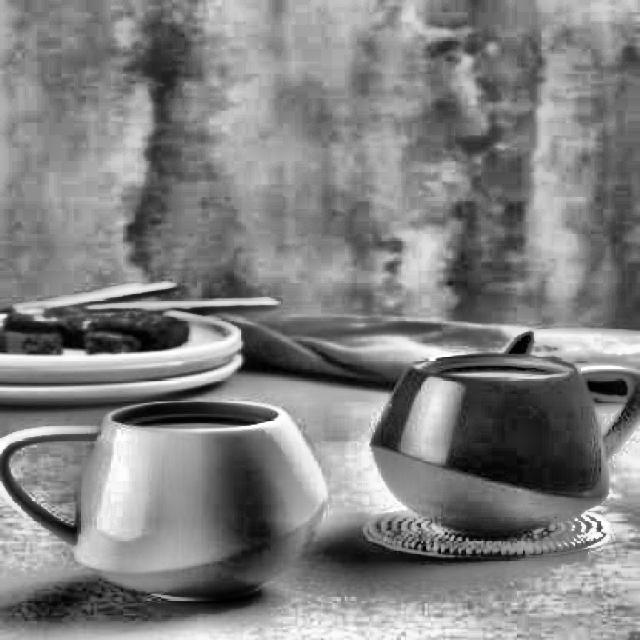Mug: (2, 398, 332, 605), (368, 354, 638, 540)
